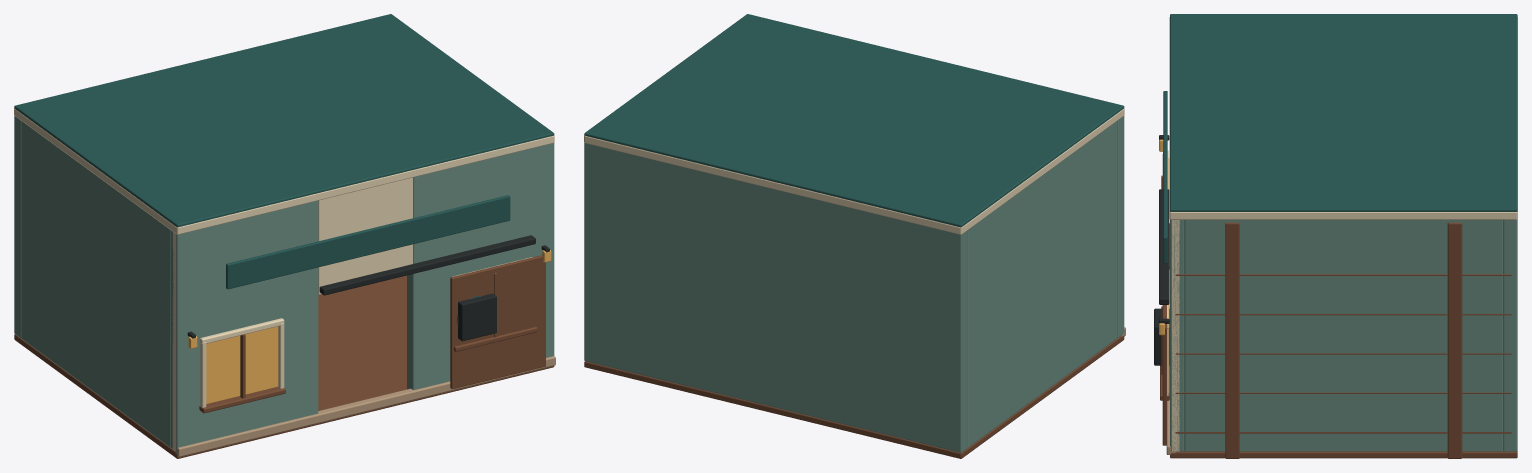
The model's file is NQ-BLD-03.glb.
3 renders of one model, left to right at view 1: azimuth 30°, elevation 25°; view 2: azimuth 150°, elevation 25°; view 3: azimuth 270°, elevation 25°, orthographic. The views are drawn at different scales.
Visible parts, largest first — view 1: Roof_RemoveForInteriorReview, LeftWall, FrontWing, FrontWing.001, Floor, SlidingDoorLeaf, NQ-SGN-03, DoorHeader, WindowGraphicProxy, PlinthBand, CreamRoofCornice, SlidingDoorRail (+6 smaller); view 2: RearWall, Roof_RemoveForInteriorReview, LeftWall, Floor, CreamRoofCornice.001, FrontWing, CreamSideCornice; view 3: Roof_RemoveForInteriorReview, RightWall, SideBrickPilaster.001, SideBrickPilaster, RearWall, CreamSideCornice.001, FrontWing.001, Floor, CornerTrim.001, SlidingDoorRail, NQ-SGN-03, SlidingDoorLeaf (+6 smaller).
Boxes of the visible parts, x1=… form: Roof_RemoveForInteriorReview: x1=14, y1=14, x2=554, y2=227; LeftWall: x1=21, y1=121, x2=170, y2=447; FrontWing: x1=171, y1=200, x2=318, y2=451; FrontWing.001: x1=407, y1=143, x2=554, y2=389; Floor: x1=14, y1=275, x2=554, y2=458; SlidingDoorLeaf: x1=450, y1=255, x2=545, y2=389; NQ-SGN-03: x1=226, y1=195, x2=510, y2=289; DoorHeader: x1=318, y1=177, x2=412, y2=294; WindowGraphicProxy: x1=206, y1=326, x2=278, y2=404; PlinthBand: x1=175, y1=356, x2=555, y2=456; CreamRoofCornice: x1=177, y1=135, x2=554, y2=234; SlidingDoorRail: x1=319, y1=235, x2=535, y2=295; RearWall: x1=584, y1=143, x2=967, y2=452; Roof_RemoveForInteriorReview: x1=584, y1=14, x2=1124, y2=227; LeftWall: x1=967, y1=121, x2=1117, y2=447; Floor: x1=584, y1=335, x2=1124, y2=458; CreamRoofCornice.001: x1=584, y1=135, x2=961, y2=234; FrontWing: x1=1117, y1=116, x2=1124, y2=337; CreamSideCornice: x1=961, y1=108, x2=1124, y2=234; Roof_RemoveForInteriorReview: x1=1170, y1=14, x2=1517, y2=211; RightWall: x1=1184, y1=220, x2=1502, y2=451; SideBrickPilaster.001: x1=1447, y1=222, x2=1462, y2=458; SideBrickPilaster: x1=1225, y1=222, x2=1239, y2=458; RearWall: x1=1503, y1=219, x2=1517, y2=451; CreamSideCornice.001: x1=1170, y1=212, x2=1517, y2=219; FrontWing.001: x1=1170, y1=219, x2=1184, y2=451; Floor: x1=1170, y1=451, x2=1517, y2=458; CornerTrim.001: x1=1172, y1=220, x2=1179, y2=451; SlidingDoorRail: x1=1159, y1=189, x2=1169, y2=304; NQ-SGN-03: x1=1163, y1=91, x2=1167, y2=263; SlidingDoorLeaf: x1=1162, y1=305, x2=1166, y2=445.
Bounding box in the file's own units: 32.12 × 19 × 25.13.
